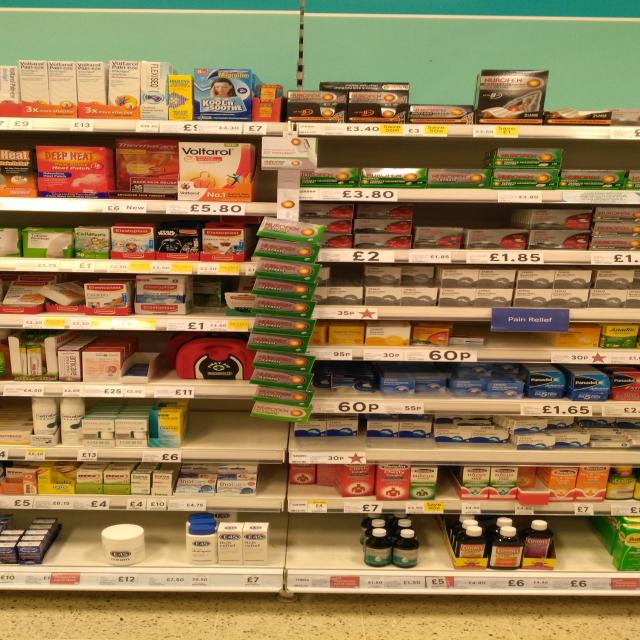void: (314, 512, 367, 588), (561, 518, 611, 594), (482, 308, 541, 363), (192, 396, 242, 458), (273, 522, 315, 593), (62, 510, 96, 590), (597, 80, 640, 142), (150, 510, 180, 587), (430, 516, 459, 592)
